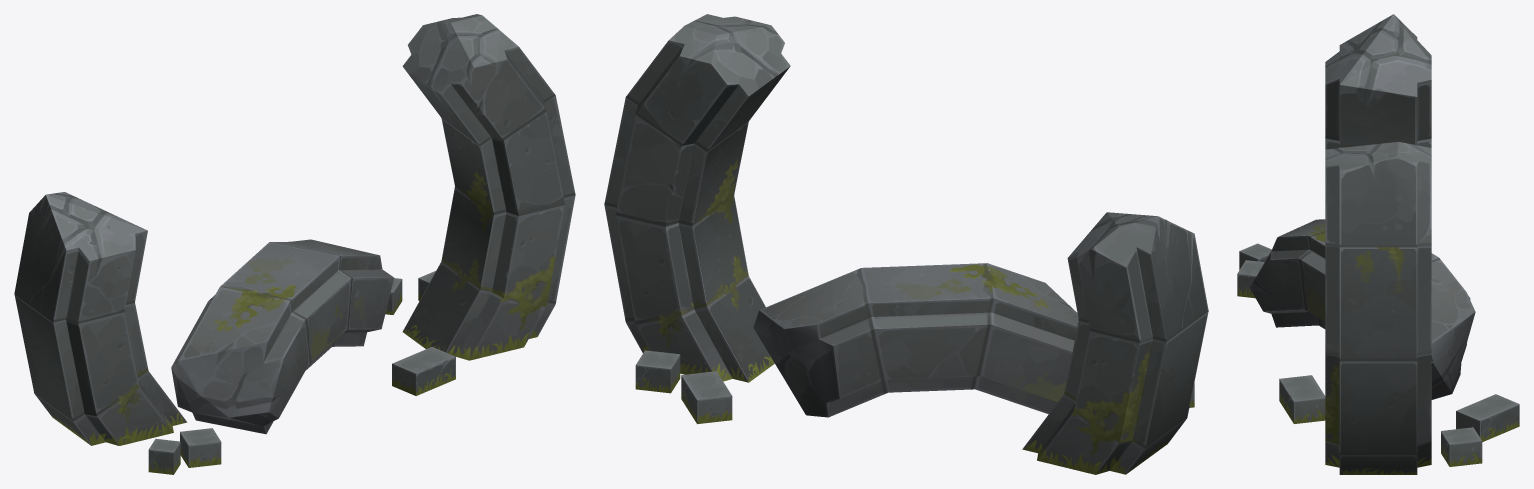
The model's file is Pr_RoundGate_03.FBX.
The picture shows the model from 3 angles, left to right: view 1: azimuth 30°, elevation 25°; view 2: azimuth 150°, elevation 25°; view 3: azimuth 270°, elevation 25°; orthographic projection. The views are drawn at different scales.
Parts seen in each view (by area): view 1: Pr_RoundGate_03; view 2: Pr_RoundGate_03; view 3: Pr_RoundGate_03.
Part boxes in pixels (bbox=[...]): Pr_RoundGate_03: bbox=[14, 14, 575, 474]; Pr_RoundGate_03: bbox=[604, 14, 1208, 474]; Pr_RoundGate_03: bbox=[1237, 14, 1519, 474].
Bounding box in the file's own units: 4.22 × 2.37 × 1.99.
Materials: 1 (1 with a texture image).
